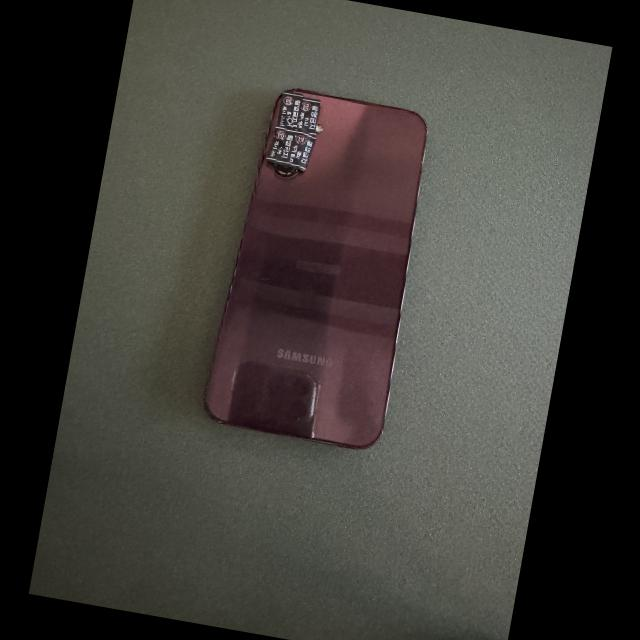lens: (273, 163, 297, 176)
phone: (204, 88, 426, 447)
sticker: (285, 129, 315, 172), (265, 124, 295, 165), (294, 96, 320, 136), (276, 91, 303, 129)
